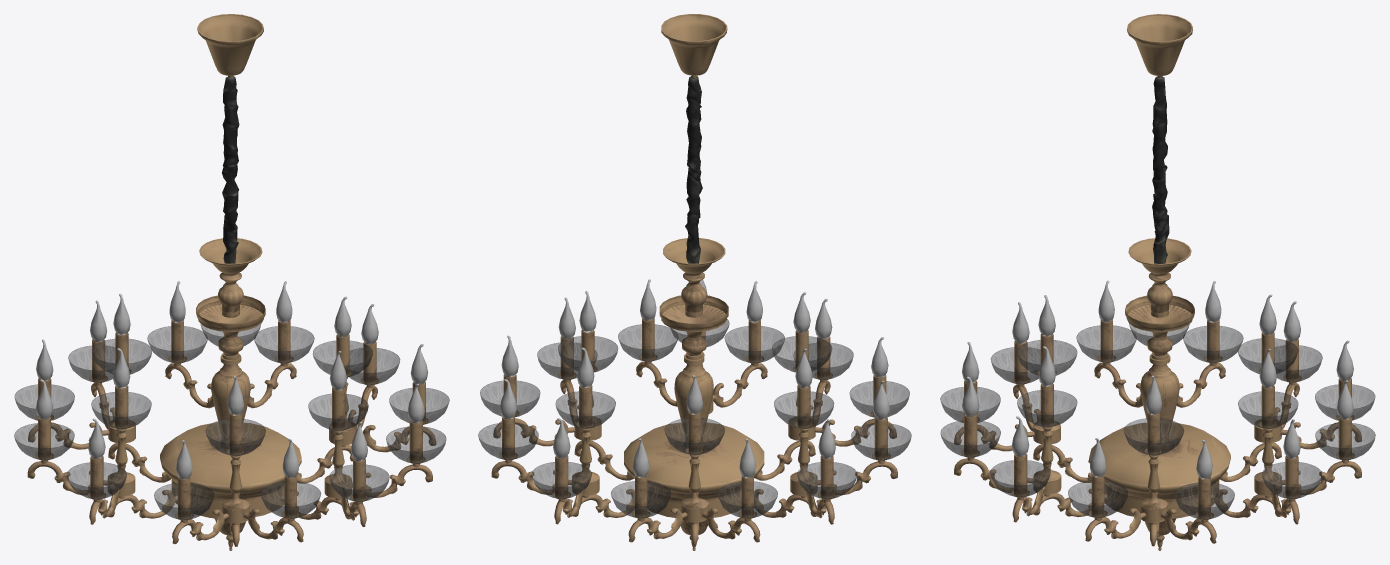
Rendered from chandelier_03_4k-v2.glb.
The picture shows the model from 3 angles, left to right: view 1: azimuth 30°, elevation 25°; view 2: azimuth 150°, elevation 25°; view 3: azimuth 270°, elevation 25°; orthographic projection.
Parts seen in each view (by area): view 1: Chandelier_03; view 2: Chandelier_03; view 3: Chandelier_03.
Part boxes in pixels (<box>): Chandelier_03: <box>14,14,449,550</box>; Chandelier_03: <box>478,14,911,550</box>; Chandelier_03: <box>940,14,1375,550</box>.
Bounding box in the file's own units: 0.7804 × 1.04 × 0.7855.
Materials: 2 (2 with a texture image).
